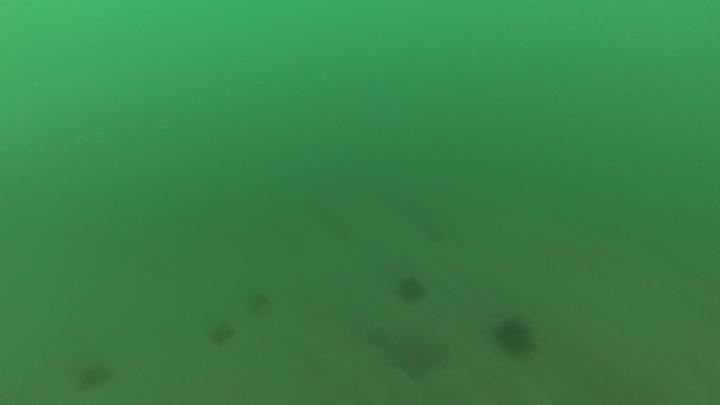echinus: (490, 312, 538, 361), (72, 357, 116, 394), (393, 273, 430, 307), (205, 318, 239, 349), (242, 287, 275, 318)
starfish: (385, 331, 450, 383)
